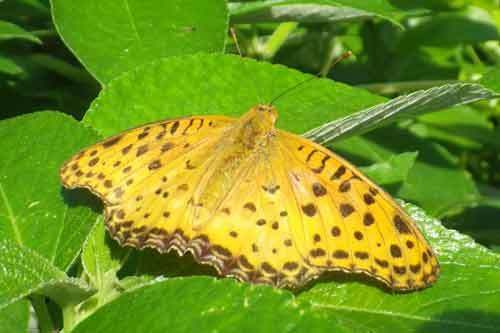Argyreus hyperbius: (54, 28, 441, 299)
butterfly: (56, 30, 443, 301)
